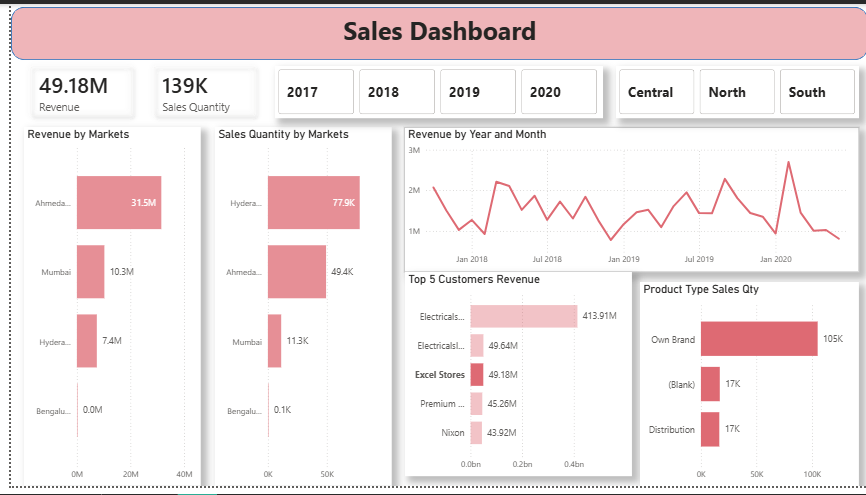

The dashboard page shown, as its layout file describes it:
{"tool":"powerbi","page":{"name":"Page 1","canvas":[1280,720],"ordinal":0},"visuals":[{"type":"cardVisual","fields":{"Data":["BaseMeasures.Revenue","BaseMeasures.Sales Quantity"]},"box":[0,64.2,394.4,132.9],"z":1000},{"type":"clusteredBarChart","title":"Revenue by Markets","fields":{"Y":["BaseMeasures.Revenue"],"Category":["public markets.markets_name"]},"box":[19.4,183.7,264.4,536.3],"z":2000},{"type":"clusteredBarChart","title":"Sales Quantity by Markets","fields":{"Y":["BaseMeasures.Sales Quantity"],"Category":["public markets.markets_name"]},"box":[304.7,183.7,264.4,536.3],"z":3000},{"type":"advancedSlicerVisual","fields":{"Values":["public date.year"]},"box":[394.4,92.6,490,77.7],"z":4000},{"type":"lineChart","fields":{"Y":["BaseMeasures.Revenue"],"Category":["public date.date.Variation.Date Hierarchy.Year","public date.date.Variation.Date Hierarchy.Month"]},"box":[587.1,183.7,679.7,216.6],"z":5000},{"type":"clusteredBarChart","title":"Top 5 Customers Revenue","fields":{"Y":["BaseMeasures.Revenue"],"Category":["public customers.custmer_name"]},"box":[587.1,415.3,339.1,304.7],"z":6000},{"type":"clusteredBarChart","title":" Product Type Sales Qty","fields":{"Y":["BaseMeasures.Sales Quantity"],"Category":["public products.product_type"]},"box":[939.6,415.3,327.1,304.7],"z":7000},{"type":"advancedSlicerVisual","fields":{"Values":["public markets.zone"]},"box":[903.7,92.6,363,77.7],"z":8000},{"type":"shape","box":[0,4.5,1280.2,79.2],"z":8750},{"type":"textbox","box":[491.5,9,366,83.7],"z":9500}]}

Visuals, with their boxes in screenshot pixels (x1, y1, x2, y2), scaled from the page's 1280x720 canvas onto the 866x495 screenshot:
cardVisual - BaseMeasures.Revenue x BaseMeasures.Sales Quantity: [0, 44, 267, 136]
"Revenue by Markets" clusteredBarChart: [13, 126, 192, 494]
"Sales Quantity by Markets" clusteredBarChart: [206, 126, 385, 494]
advancedSlicerVisual - public date.year: [267, 64, 598, 117]
lineChart - BaseMeasures.Revenue x public date.date.Variation.Date Hierarchy.Year: [397, 126, 857, 275]
"Top 5 Customers Revenue" clusteredBarChart: [397, 286, 627, 494]
" Product Type Sales Qty" clusteredBarChart: [636, 286, 857, 494]
advancedSlicerVisual - public markets.zone: [611, 64, 857, 117]
shape: [0, 3, 865, 58]
textbox: [333, 6, 580, 64]
